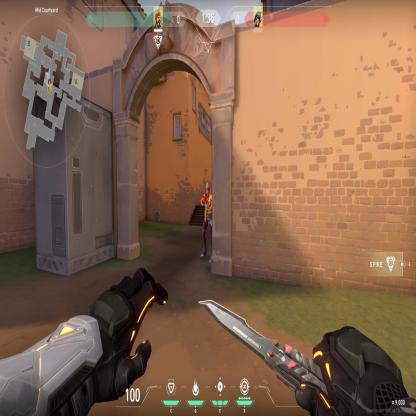enemy: (200, 180, 212, 266)
